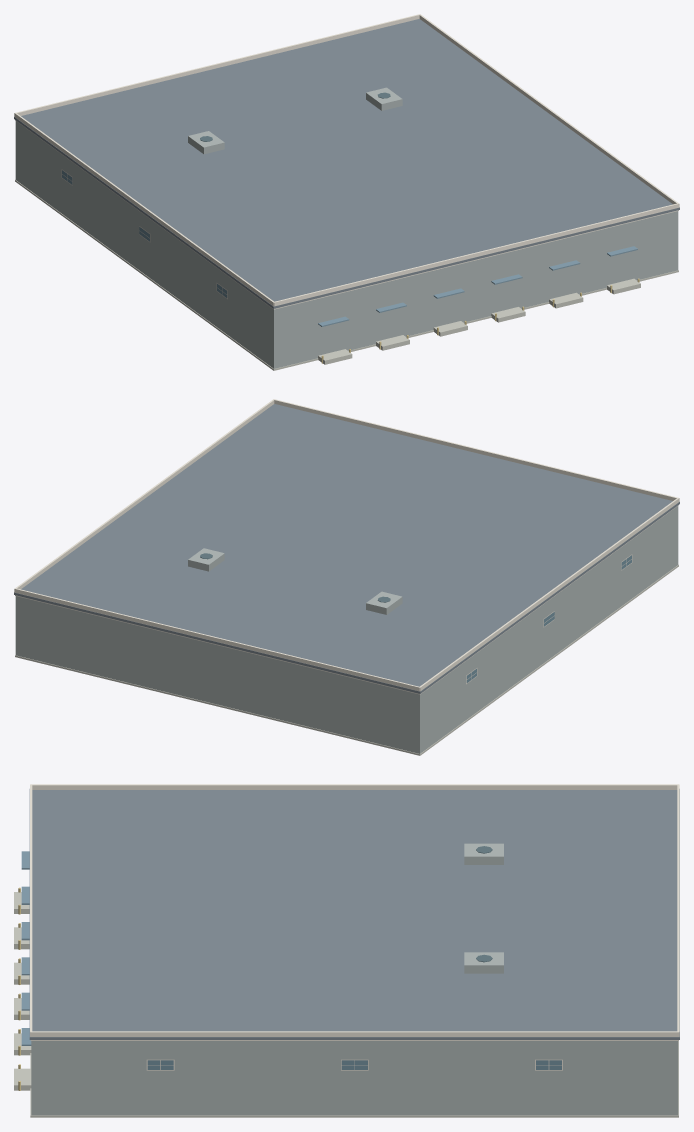
Rendered from warehouse-logistics-docks.glb.
3 views of the same model, one above another, from view 1: azimuth 30°, elevation 25°; view 2: azimuth 150°, elevation 25°; view 3: azimuth 270°, elevation 25° (orthographic). The views are drawn at different scales.
Visible parts, largest first — view 1: warehouse-logistics-docks; view 2: warehouse-logistics-docks; view 3: warehouse-logistics-docks.
Boxes of the visible parts, left/top/right/bottom form: warehouse-logistics-docks: left=14, top=14, right=679, bottom=370; warehouse-logistics-docks: left=14, top=399, right=679, bottom=755; warehouse-logistics-docks: left=14, top=784, right=679, bottom=1117.
Size of the model in its own units: 56.3 by 9.51 by 63.8.
